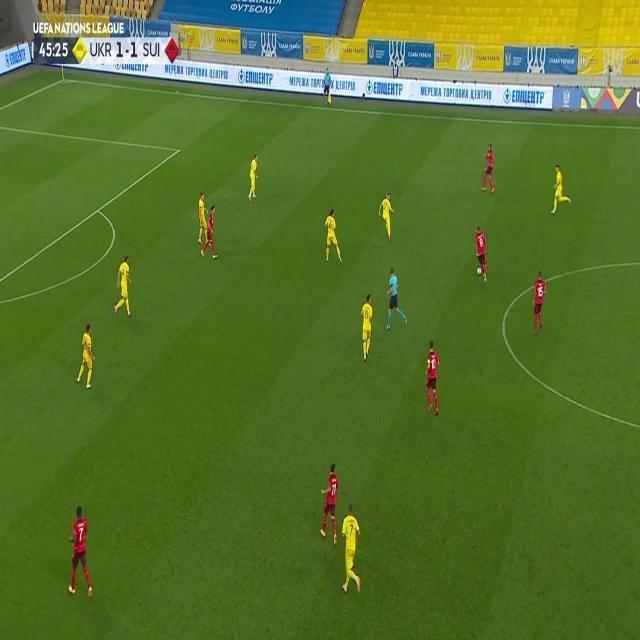player: (66, 506, 95, 600), (340, 503, 364, 597), (319, 460, 342, 545), (76, 322, 97, 390), (113, 253, 134, 319), (423, 340, 441, 416), (549, 164, 572, 217), (322, 207, 343, 264), (531, 269, 548, 335), (359, 292, 374, 362), (201, 204, 219, 261), (377, 189, 394, 241), (473, 224, 488, 281), (480, 144, 496, 195), (196, 191, 208, 248), (247, 153, 259, 201)
referee: (383, 267, 407, 332), (322, 68, 333, 108)
